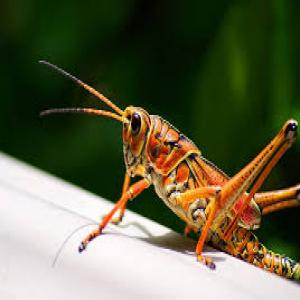locust: (71, 62, 300, 256)
